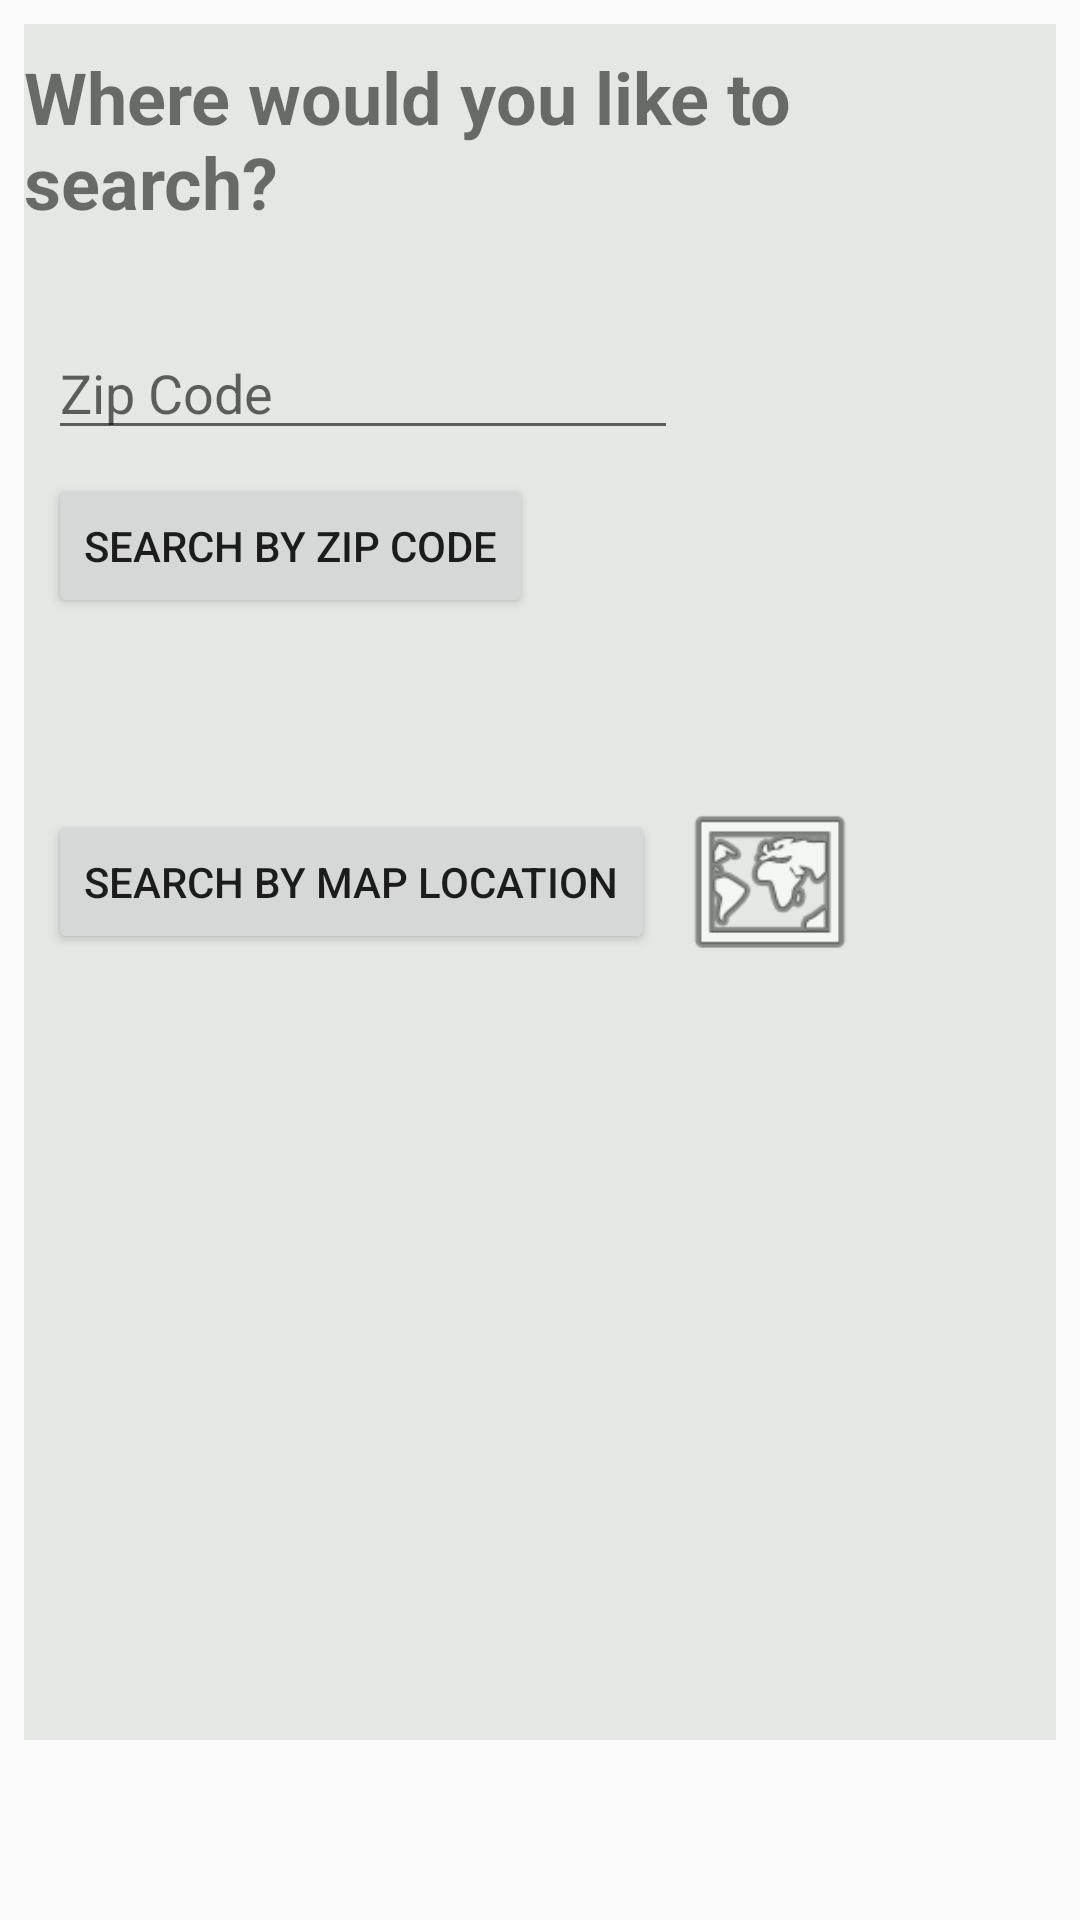

Where icons sit on this 1080 × 1920 app screen, as (x1, y1, x2, y2):
mapmode: (694, 816, 846, 948)
